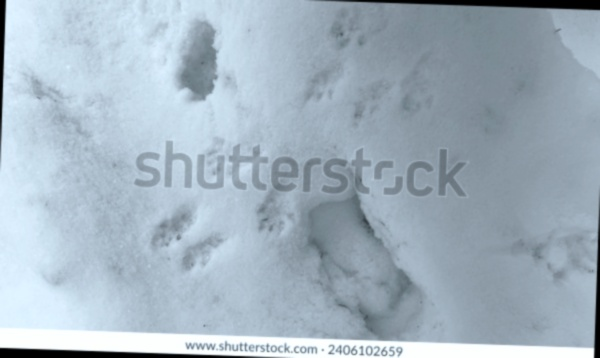ecureuil: (140, 188, 231, 290), (394, 43, 454, 123), (245, 172, 308, 247), (317, 1, 392, 54), (299, 51, 350, 115), (347, 71, 396, 134)
